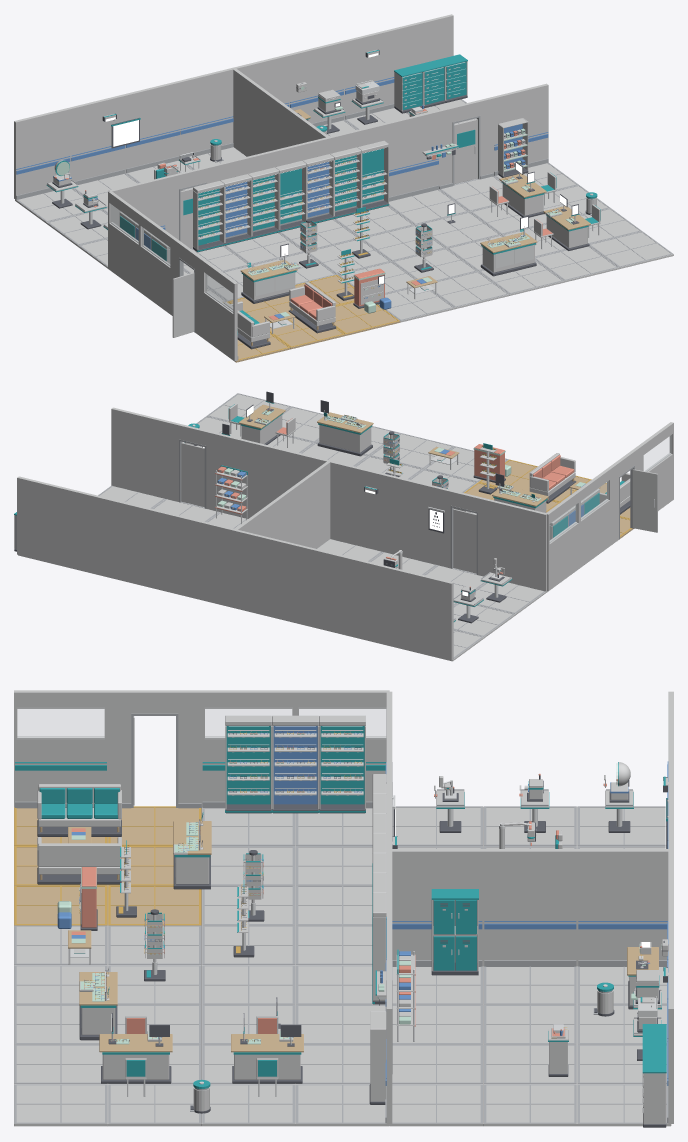
3 renders of one model, top to bottom at view 1: azimuth 30°, elevation 25°; view 2: azimuth 150°, elevation 25°; view 3: azimuth 270°, elevation 25°, orthographic. The views are drawn at different scales.
Visible parts, largest first — view 1: 059-consulting-room-wall-module/0, 056-consulting-room-wall-module/0, 057-consulting-room-wall-module/0, 058-consulting-room-wall-module/0, 069-consulting-room-wall-module/0, 062-consulting-room-wall-module/0, 061-consulting-room-wall-module/0, 071-consulting-room-wall-module/0, 070-consulting-room-door-module/0, 072-consulting-room-wall-module/0, 078-shop-wall-module/0, 063-consulting-room-wall-module/0 (+75 smaller); view 2: 056-consulting-room-wall-module/0, 061-consulting-room-wall-module/0, 058-consulting-room-wall-module/0, 063-consulting-room-wall-module/0, 059-consulting-room-wall-module/0, 060-consulting-room-wall-module/0, 062-consulting-room-wall-module/0, 057-consulting-room-wall-module/0, 071-consulting-room-wall-module/0, 064-consulting-room-wall-module/0, 067-consulting-room-wall-module/0, 066-consulting-room-wall-module/0 (+47 smaller); view 3: 073-consulting-room-wall-module/0, 072-consulting-room-wall-module/0, 074-consulting-room-wall-module/0, 077-shop-door-module-open/0, 078-shop-wall-module/0, 050-shop-floor-tile/0, 055-shop-floor-tile/0, 051-shop-floor-tile/0, 054-shop-floor-tile/0, 053-shop-floor-tile/0, 032-shop-floor-tile/0, 044-shop-floor-tile/0 (+96 smaller).
Boxes of the visible parts, left/top/right/bottom form: 059-consulting-room-wall-module/0: left=178, top=67, right=234, bottom=154; 056-consulting-room-wall-module/0: left=14, top=108, right=70, bottom=199; 057-consulting-room-wall-module/0: left=69, top=94, right=125, bottom=181; 058-consulting-room-wall-module/0: left=124, top=81, right=179, bottom=172; 069-consulting-room-wall-module/0: left=383, top=110, right=438, bottom=197; 062-consulting-room-wall-module/0: left=343, top=27, right=398, bottom=119; 061-consulting-room-wall-module/0: left=288, top=41, right=344, bottom=123; 071-consulting-room-wall-module/0: left=492, top=83, right=548, bottom=172; 070-consulting-room-door-module/0: left=437, top=97, right=493, bottom=186; 072-consulting-room-wall-module/0: left=233, top=68, right=266, bottom=156; 078-shop-wall-module/0: left=203, top=260, right=237, bottom=361; 063-consulting-room-wall-module/0: left=397, top=14, right=453, bottom=68; 056-consulting-room-wall-module/0: left=397, top=569, right=453, bottom=660; 061-consulting-room-wall-module/0: left=125, top=503, right=181, bottom=593; 058-consulting-room-wall-module/0: left=288, top=542, right=344, bottom=633; 063-consulting-room-wall-module/0: left=17, top=476, right=72, bottom=567; 059-consulting-room-wall-module/0: left=234, top=529, right=289, bottom=620; 060-consulting-room-wall-module/0: left=180, top=516, right=235, bottom=607; 062-consulting-room-wall-module/0: left=71, top=489, right=126, bottom=580; 057-consulting-room-wall-module/0: left=343, top=556, right=398, bottom=646; 071-consulting-room-wall-module/0: left=111, top=407, right=166, bottom=498; 064-consulting-room-wall-module/0: left=491, top=500, right=546, bottom=591; 067-consulting-room-wall-module/0: left=330, top=460, right=384, bottom=551; 066-consulting-room-wall-module/0: left=383, top=474, right=438, bottom=564; 073-consulting-room-wall-module/0: left=483, top=849, right=577, bottom=966; 072-consulting-room-wall-module/0: left=577, top=849, right=670, bottom=966; 074-consulting-room-wall-module/0: left=390, top=849, right=483, bottom=966; 077-shop-door-module-open/0: left=108, top=690, right=201, bottom=803; 078-shop-wall-module/0: left=14, top=690, right=107, bottom=807; 050-shop-floor-tile/0: left=483, top=1084, right=577, bottom=1126; 055-shop-floor-tile/0: left=14, top=1084, right=107, bottom=1126; 051-shop-floor-tile/0: left=389, top=1084, right=483, bottom=1126; 054-shop-floor-tile/0: left=108, top=1084, right=201, bottom=1126; 053-shop-floor-tile/0: left=201, top=1084, right=295, bottom=1126; 032-shop-floor-tile/0: left=201, top=965, right=295, bottom=1004; 044-shop-floor-tile/0: left=392, top=1045, right=483, bottom=1084.
Bounding box in the file's own units: 17.09 × 2.76 × 14.06.
